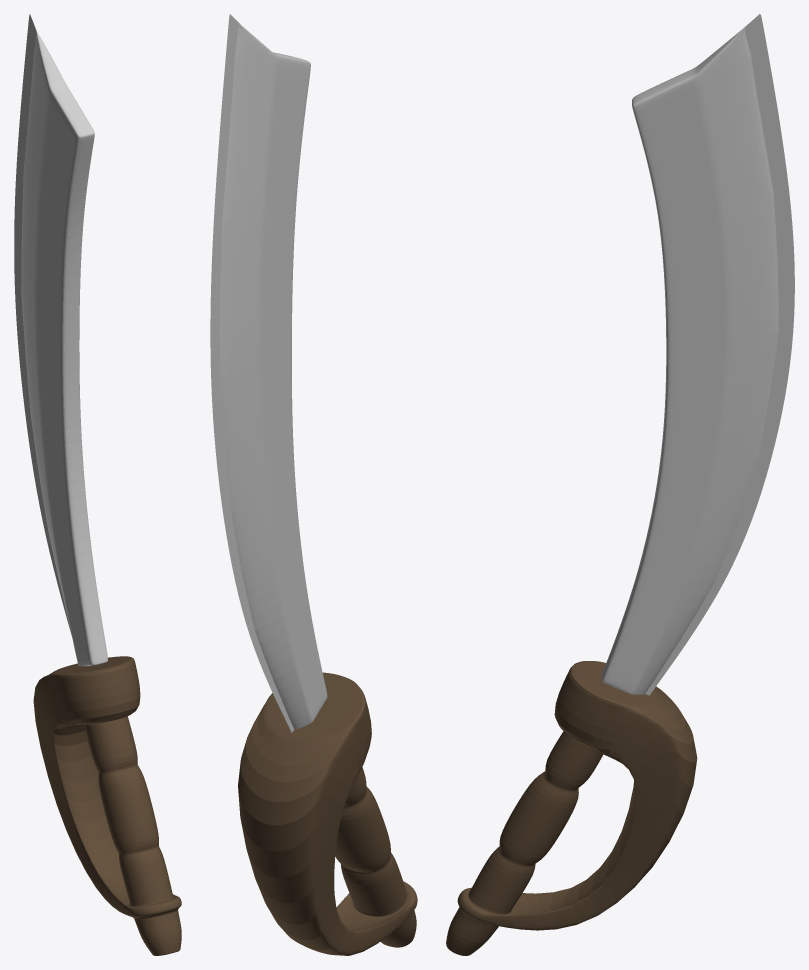
The model's file is saber_low.fbx.
3 renders of one model, left to right at view 1: azimuth 30°, elevation 25°; view 2: azimuth 150°, elevation 25°; view 3: azimuth 270°, elevation 25°, orthographic. The views are drawn at different scales.
Parts seen in each view (by area): view 1: Blade, Handle; view 2: Blade, Handle; view 3: Blade, Handle.
Part boxes in pixels (bbox=[...]): Blade: bbox=[14, 14, 107, 666]; Handle: bbox=[33, 656, 181, 955]; Blade: bbox=[210, 14, 327, 732]; Handle: bbox=[238, 672, 417, 955]; Blade: bbox=[601, 14, 794, 695]; Handle: bbox=[446, 661, 697, 955].
Size of the model in its own units: 25.1 by 280 by 94.46.
